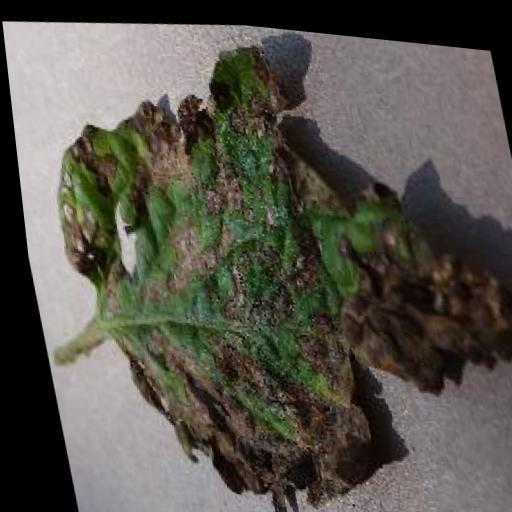Early Blight: (17, 3, 512, 512)
